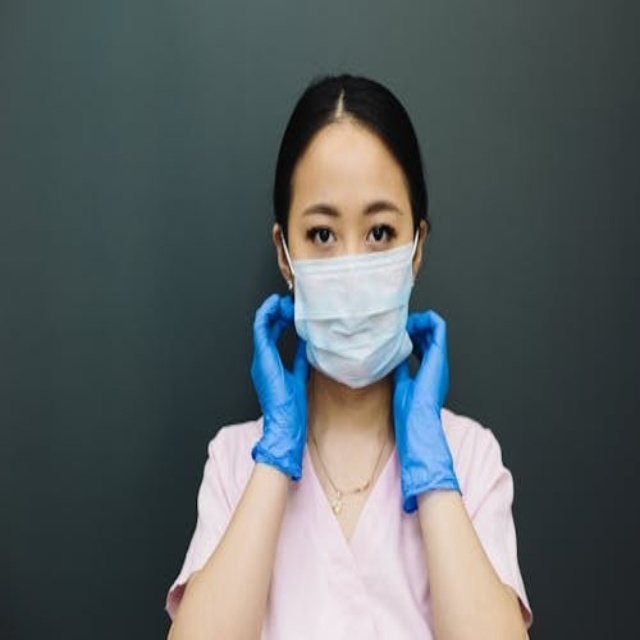Guantes: (393, 311, 459, 510), (250, 293, 310, 480)
Mascara: (286, 226, 419, 388)
Sin_gafas: (296, 196, 404, 254)
